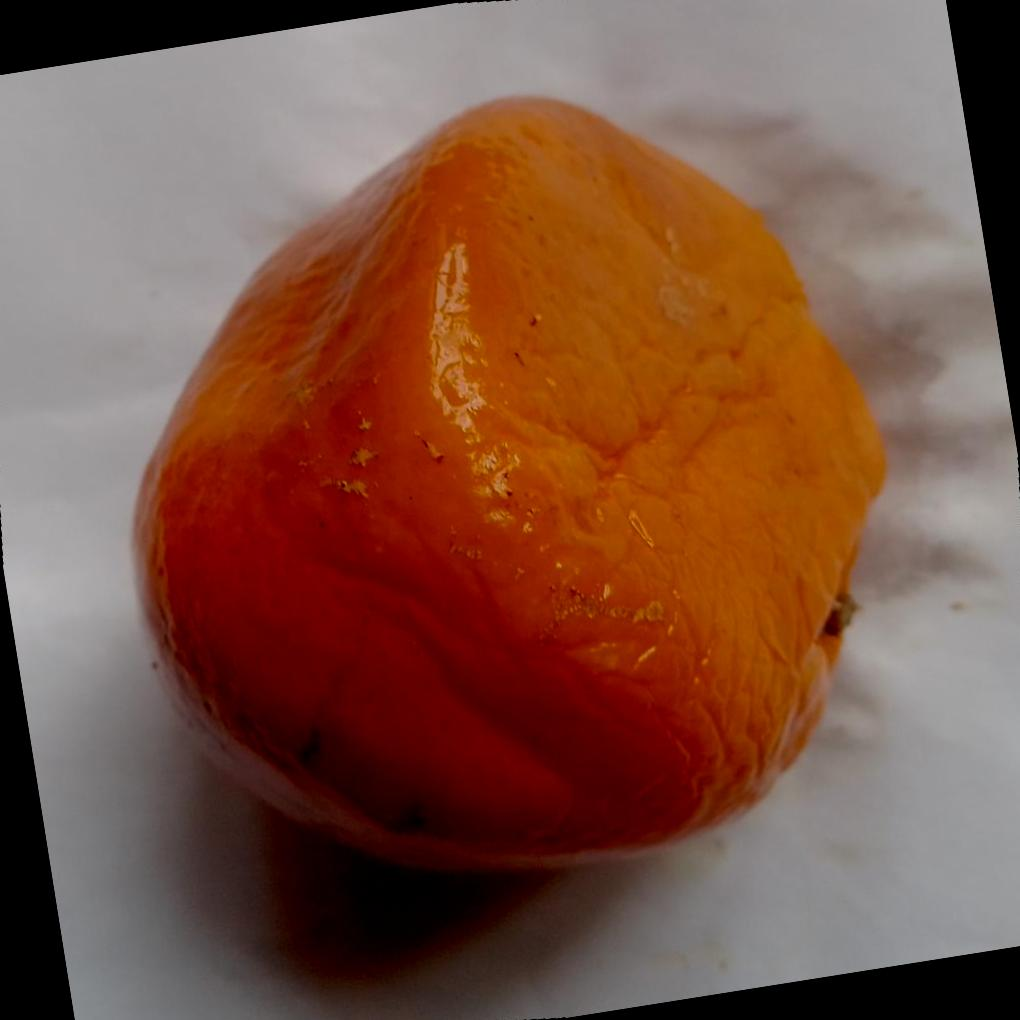FreshOrange: (130, 96, 889, 878)
